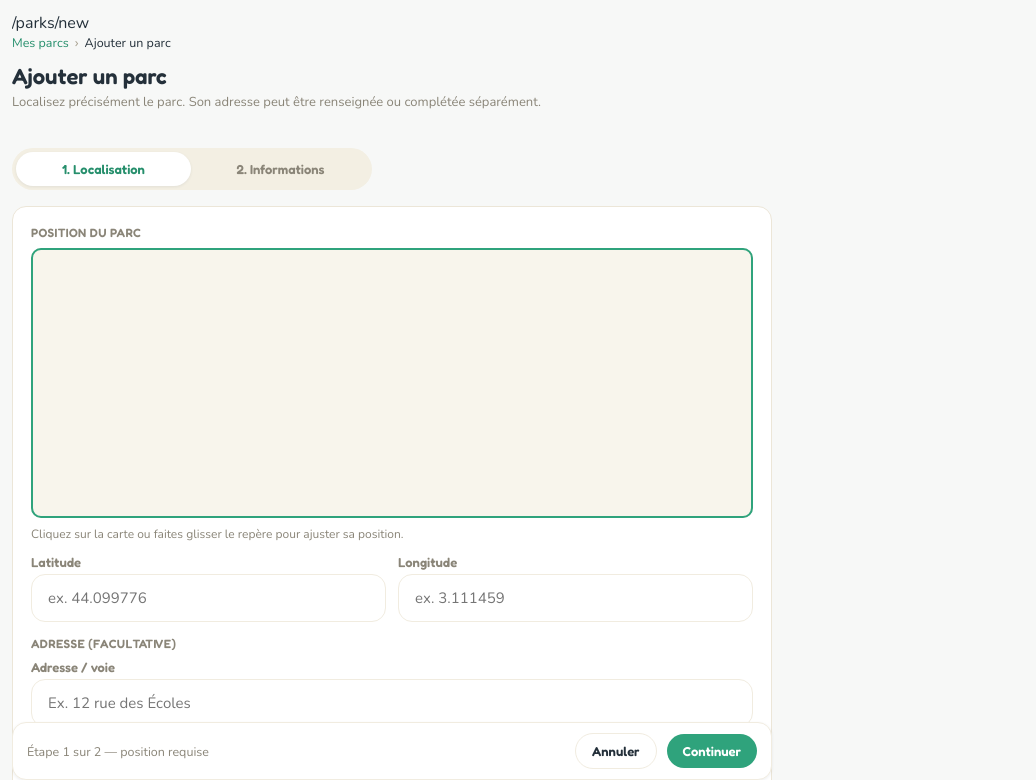
Test: ParkNew — /parks/new (Lot 3C.4) › out-of-range coordinates also block continuing
Type "999" into the number field labelled "Latitude" at [208, 598], box 31,574 -> 386,622
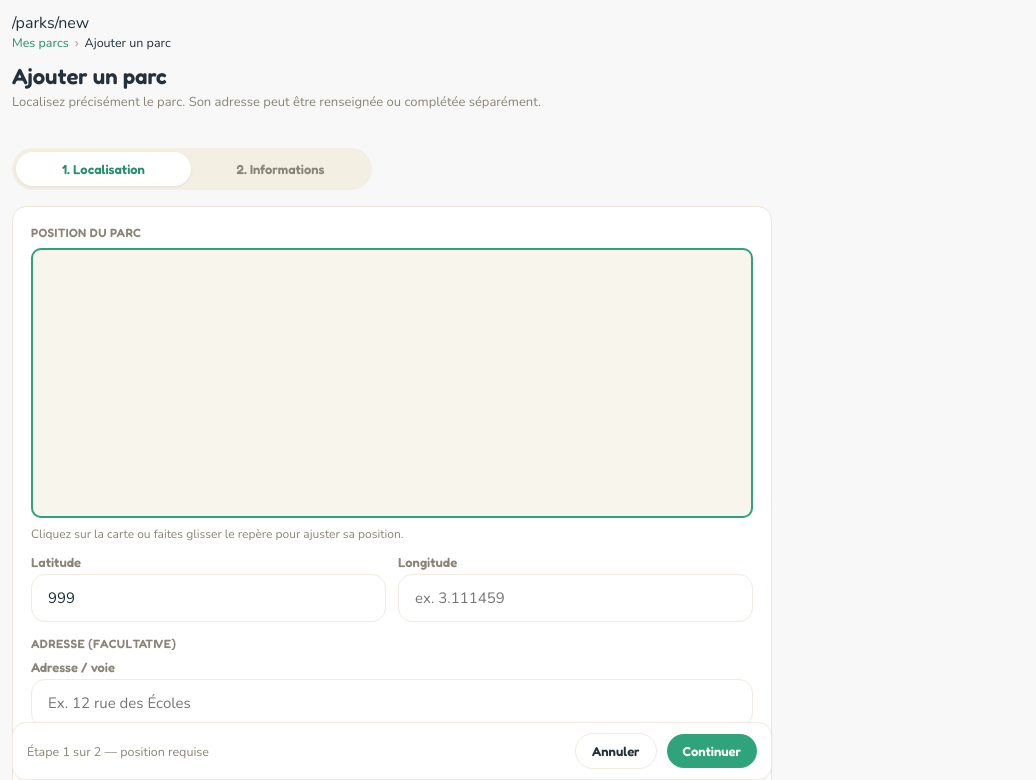
Type "3.07" into the number field labelled "Longitude" at [576, 598], box 398,574 -> 753,622
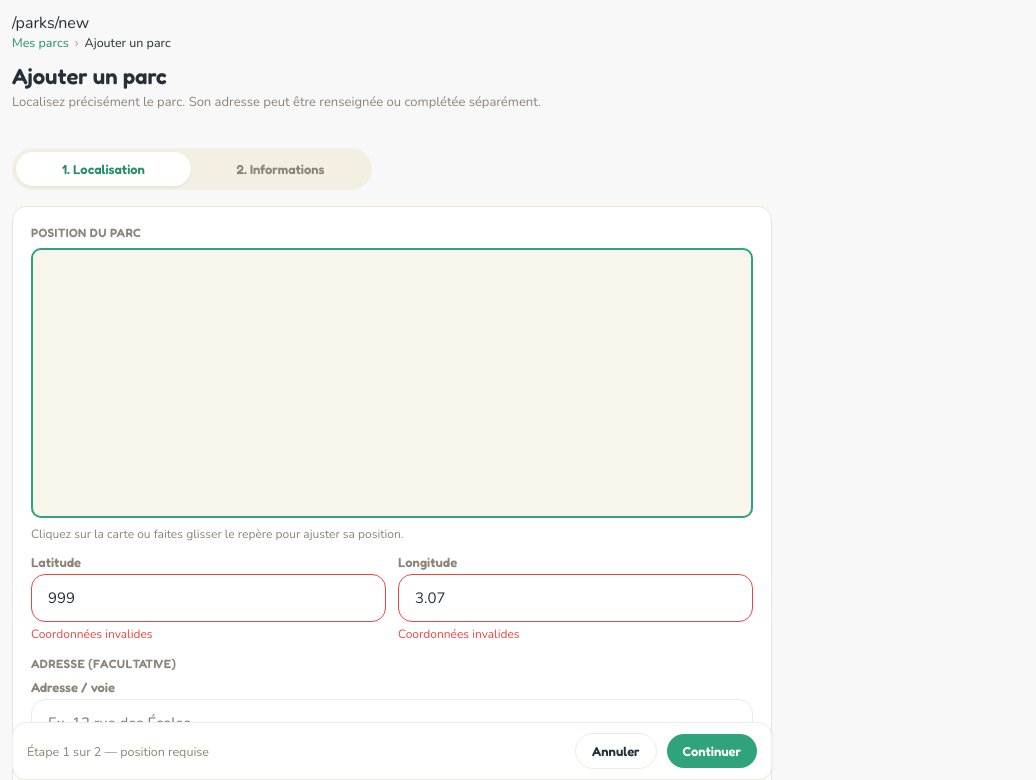
Click the button "Continuer" at [712, 751], box 667,734 -> 757,768
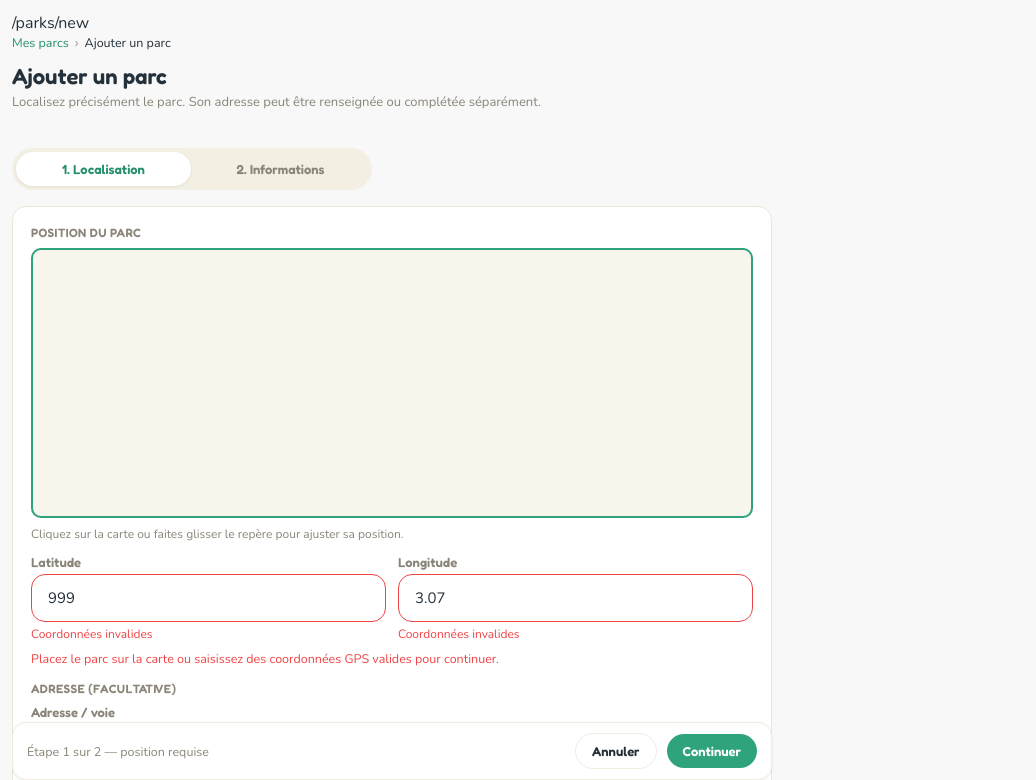
Expected: the text "coordonnées GPS valides" is shown, 31,650 -> 499,667
